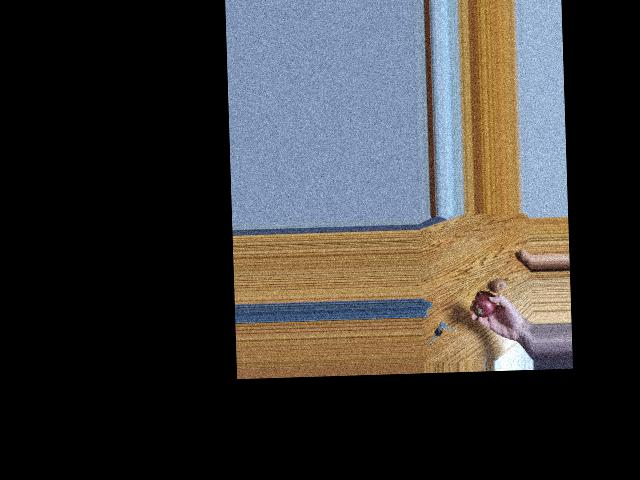onion: (492, 276, 508, 293)
